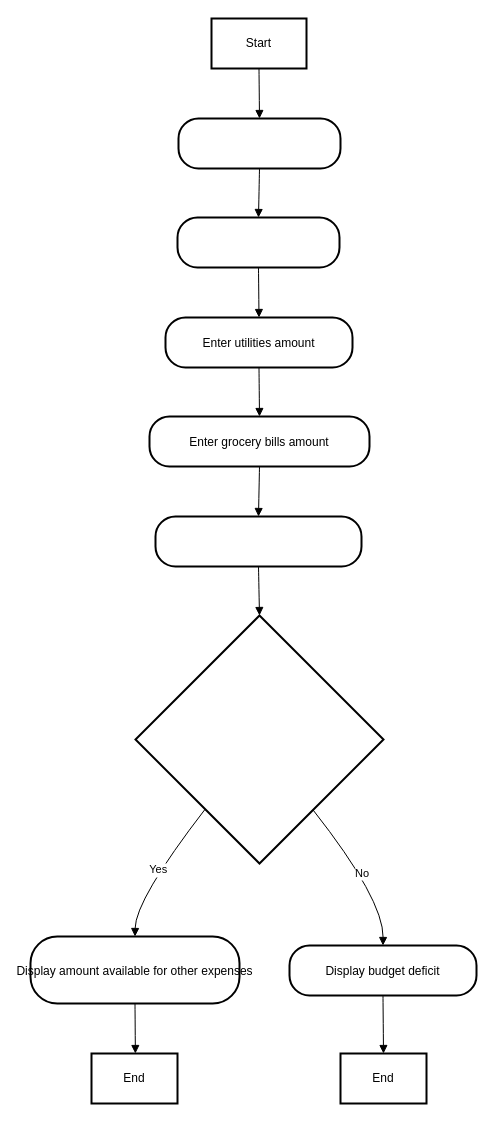
Image size: 495x1121. Some labels were removed from this diagram. Each missing label, with the box of its shape:
Are expenses less than pay?: (134, 614, 384, 864)
Calculate total expenses: (154, 515, 362, 567)
Enter monthly pay: (177, 117, 341, 169)
Enter rent amount: (176, 216, 340, 268)
